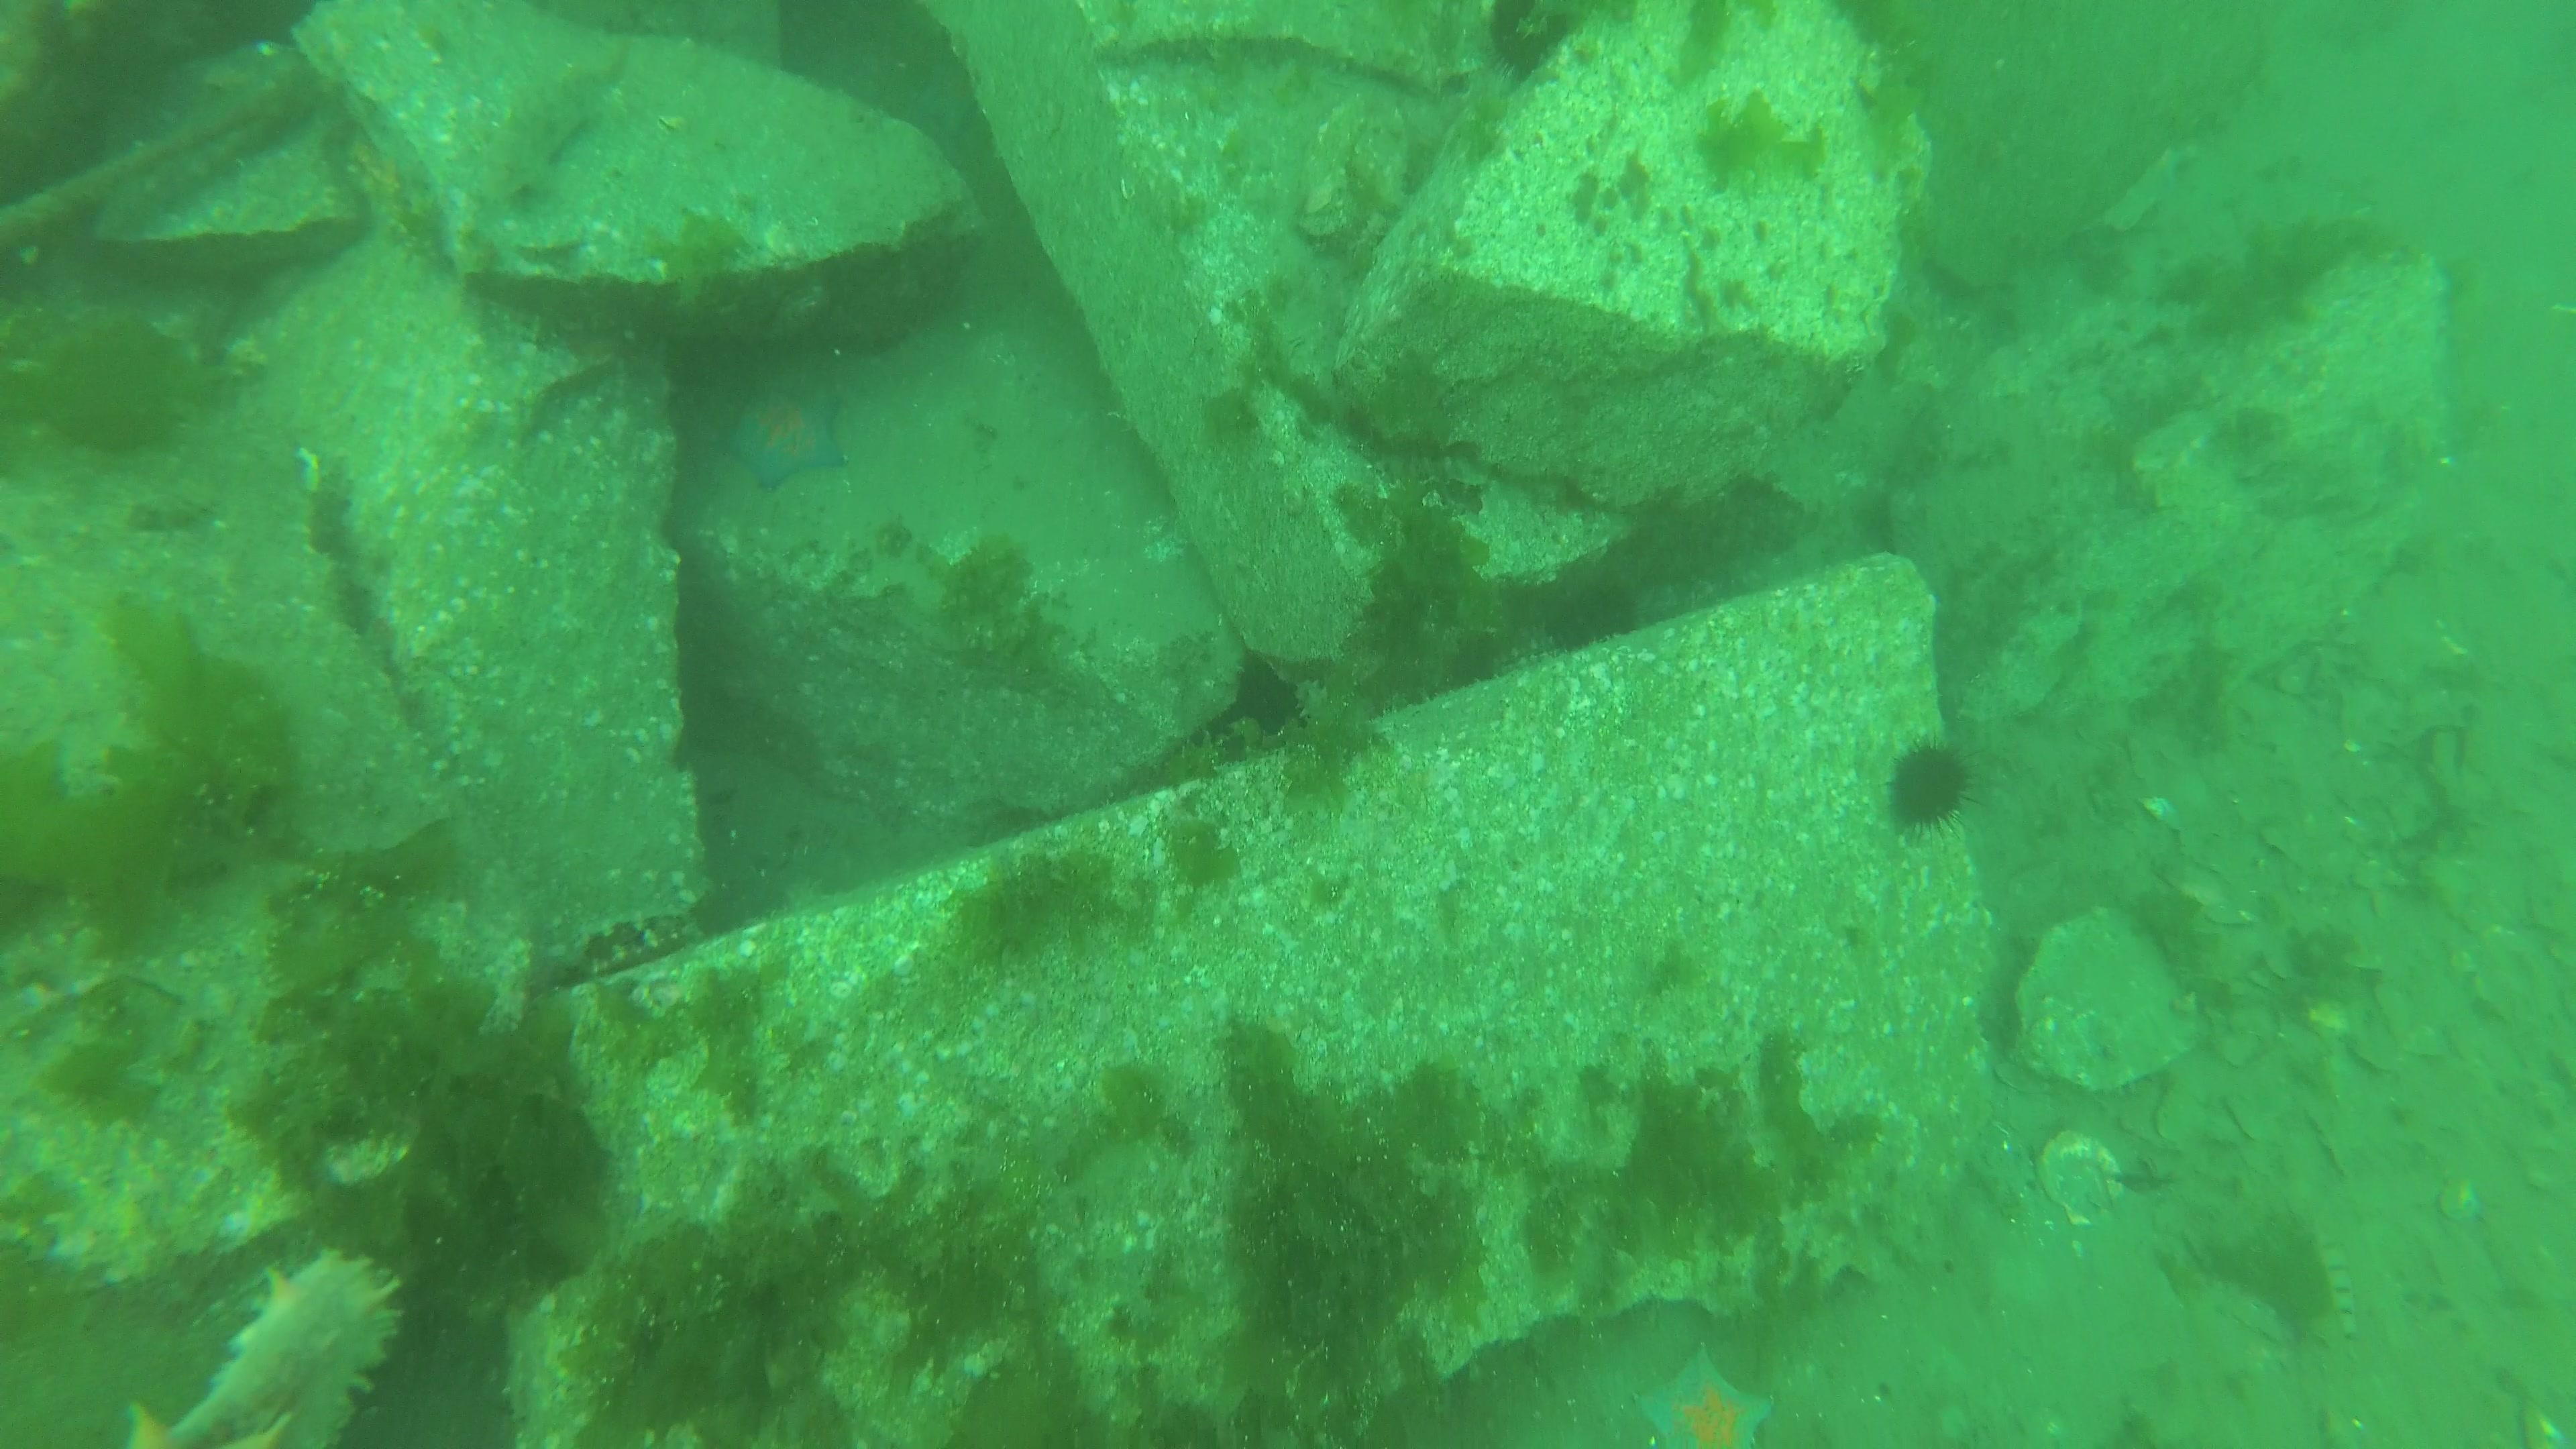echinus: (1881, 718, 1989, 835), (1537, 579, 1645, 655), (1484, 0, 1575, 81)
holothurian: (111, 1224, 407, 1449), (1293, 678, 1330, 724), (1355, 211, 1387, 249)
scallop: (2036, 1127, 2128, 1233)
starfish: (1628, 1330, 1782, 1449), (724, 386, 849, 494), (918, 65, 978, 140)
